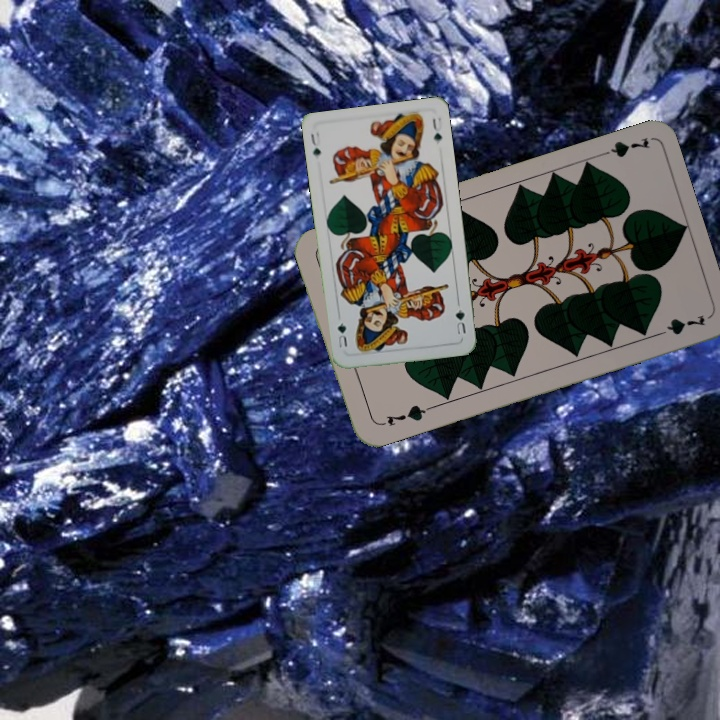G7: (375, 400, 432, 429), (593, 133, 652, 160)
GU: (451, 305, 469, 337), (307, 128, 323, 159)
